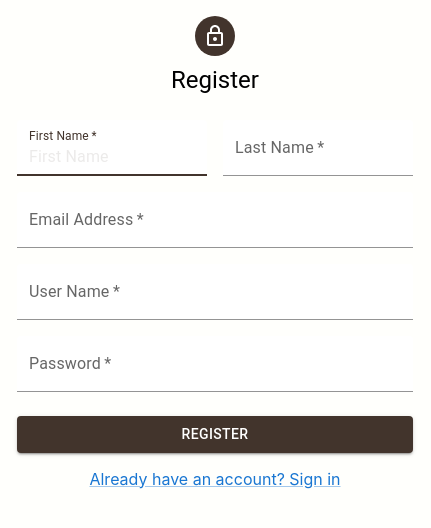
Scenario: username validation detects invalid username
This screenshot has width=431, height=528.
Type "ExampleUsername!#?" into the field with placeholder "User Name" at point(215, 292), box top-left (17, 264), bottom-right (413, 320)
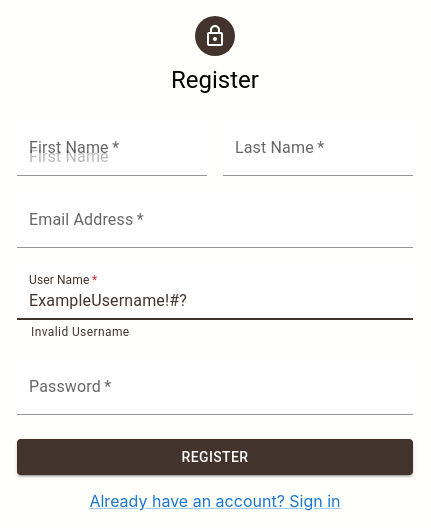
Check: the text "Invalid Username" is shown, box top-left (31, 325), bottom-right (130, 339)
